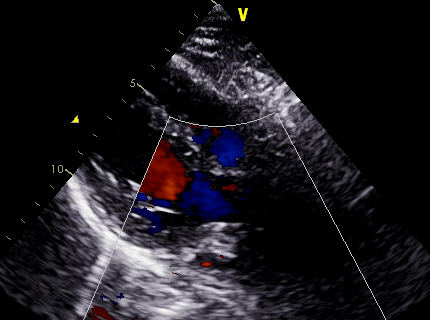AR: (162, 148, 233, 202)
